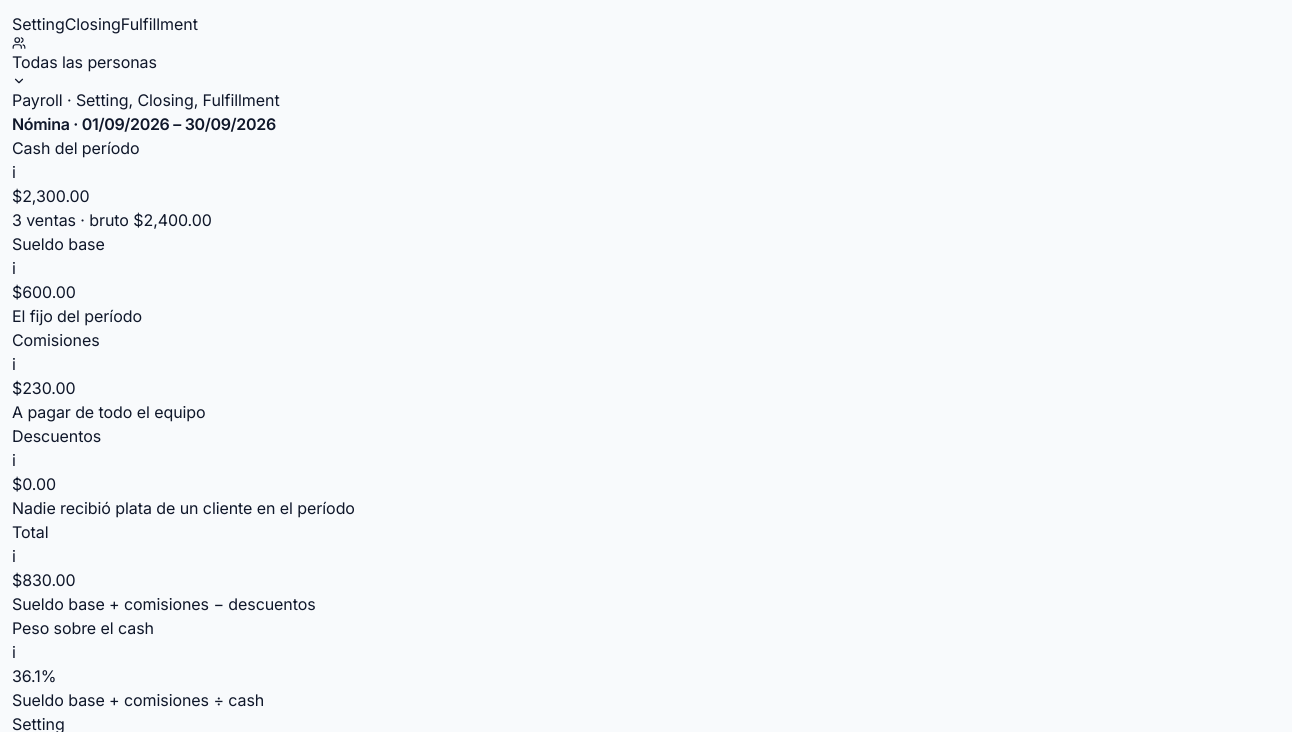
Test: Payroll › el desplegable de personas deja ver una o varias, y la suma es la de ellas
Click the button "Todas las personas" at (84, 62), box [12,36,157,88]
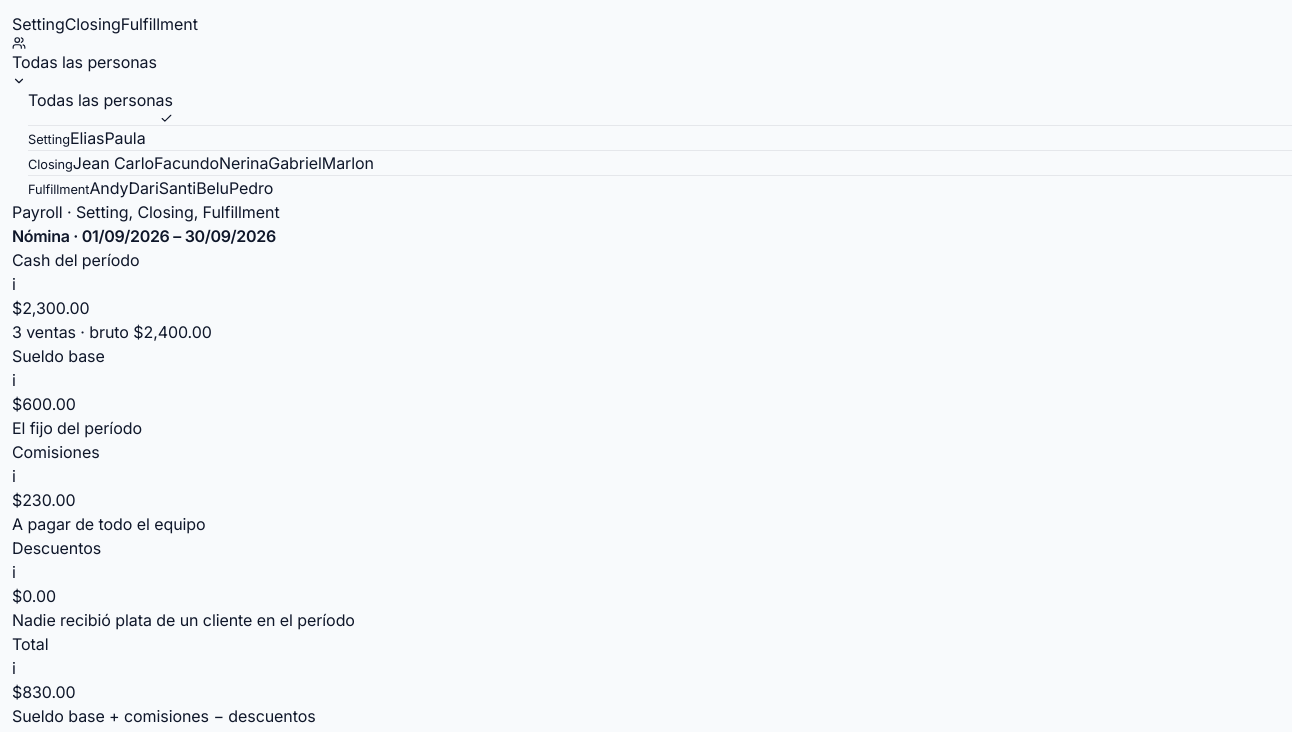
Click the menu item "Elias" at (87, 138), box [70,126,104,150]
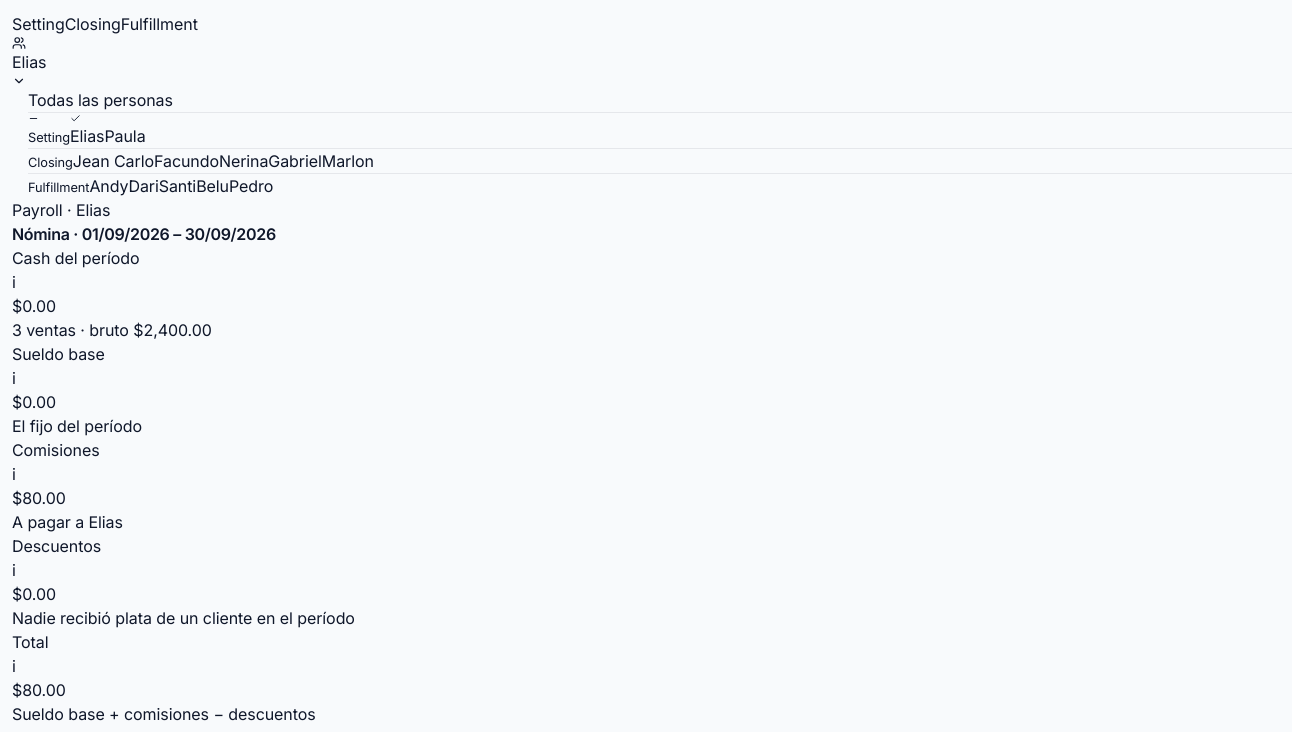
Click the menu item "Marlon" at (348, 161), box [322,149,374,173]
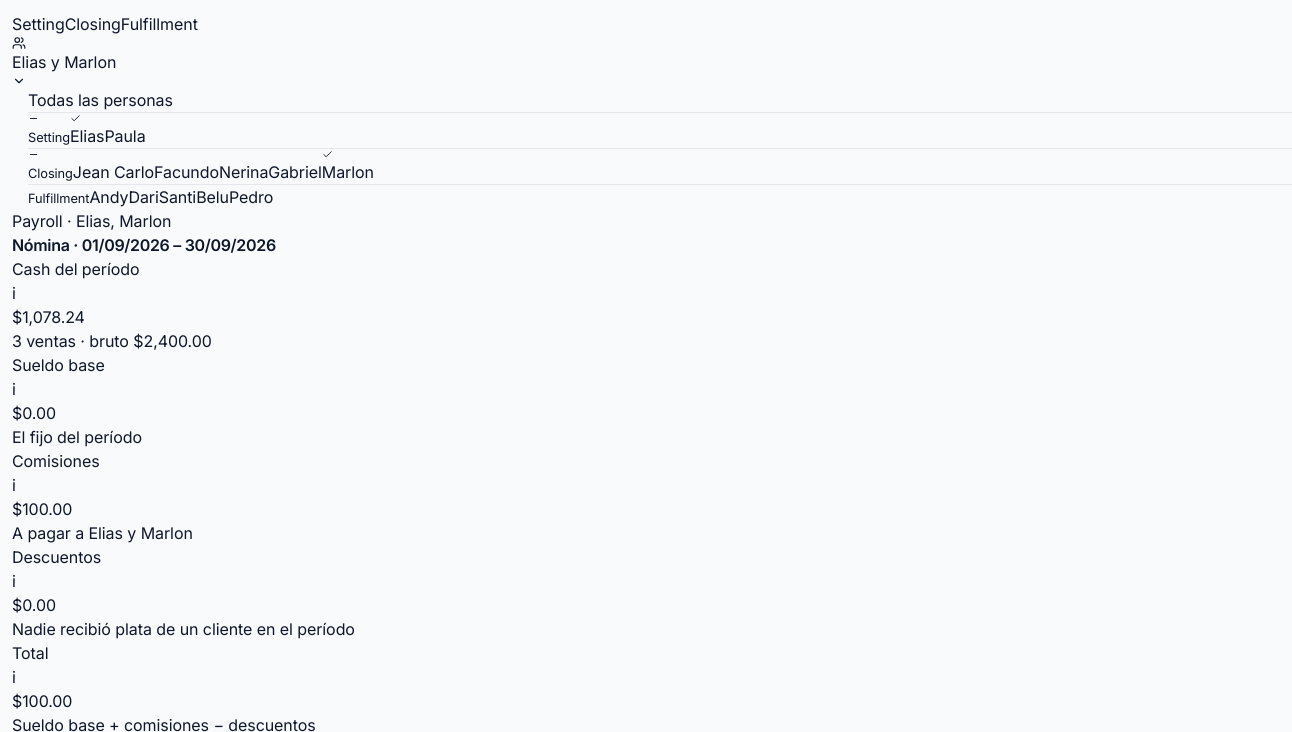
Now the button "Elias y Marlon" is shown, box [12,36,116,88]
Now the 1st text with class "kpi-n" reads "$100.00", box [12,499,72,519]
Now the text "A pagar a Elias y Marlon" is shown, box [12,523,193,543]
Click the menu item "Todas las personas" at (100, 100), box [28,88,173,112]
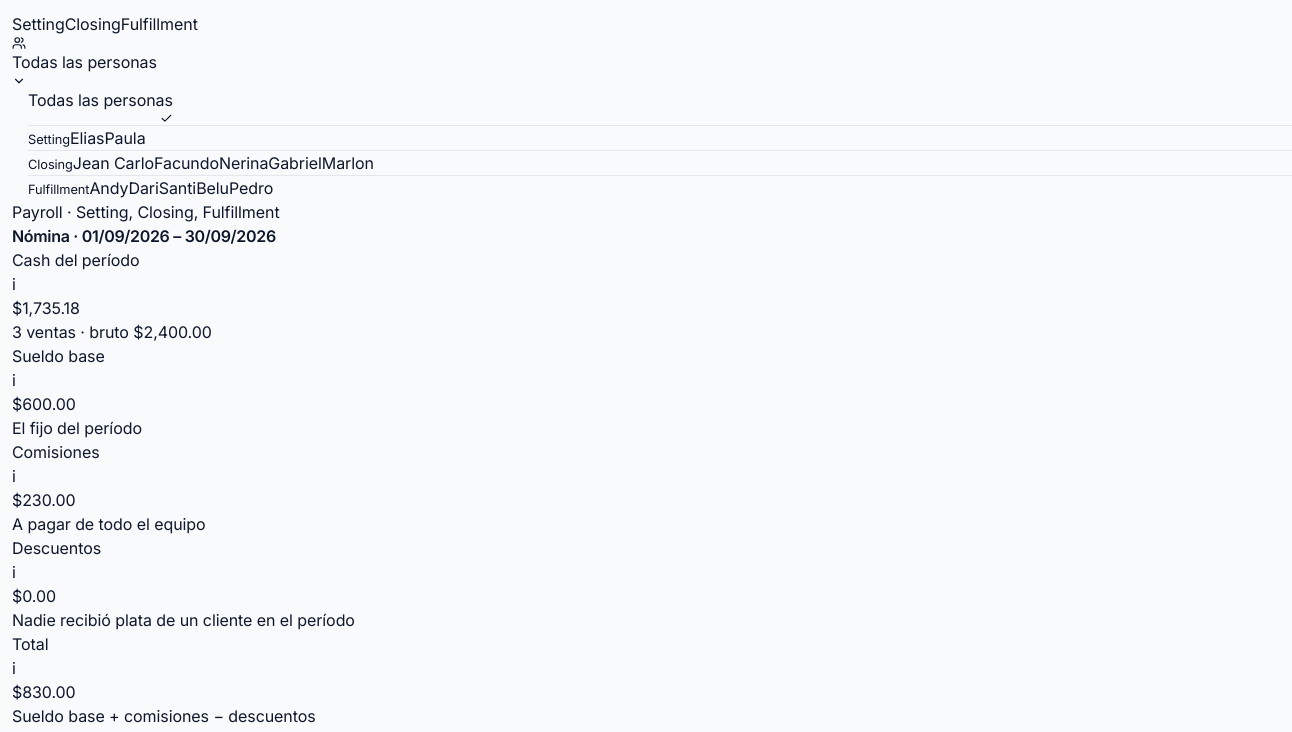
Now the text with class "kpi-n" reads "$230.00", box [12,490,75,510]
